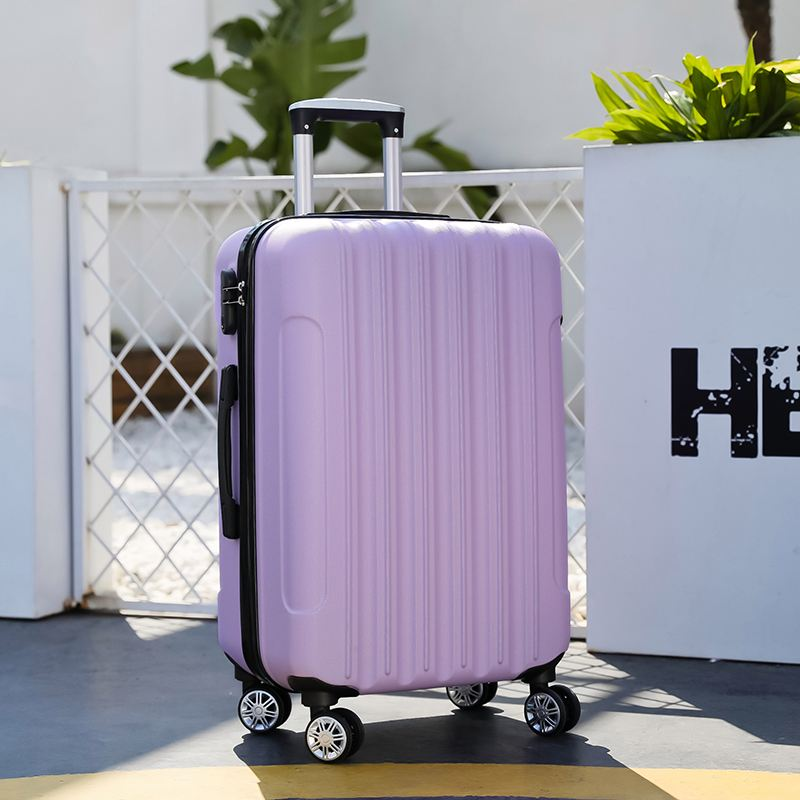box: (216, 218, 570, 695)
handle: (217, 362, 240, 540)
lock: (219, 268, 244, 336)
wheel: (305, 707, 364, 764), (524, 685, 581, 736), (238, 684, 292, 734), (445, 681, 498, 709)
